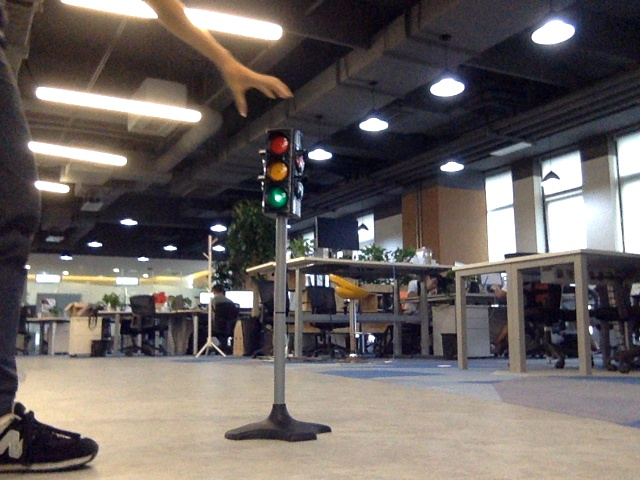green: (261, 132, 290, 210)
